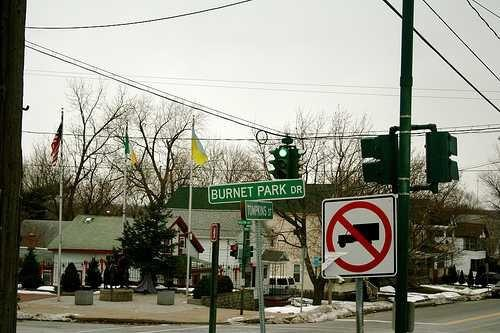red: (276, 146, 290, 181)
